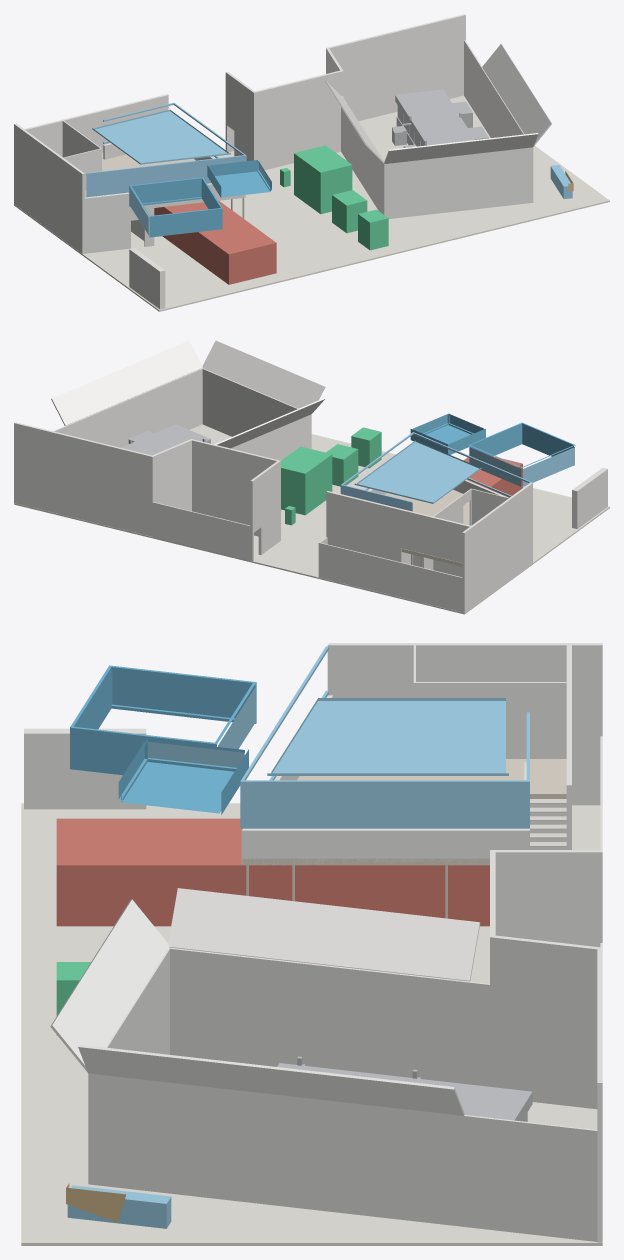
File: 270011_stand_groupeB_v2.glb
The picture shows the model from 3 angles, top to bottom: view 1: azimuth 30°, elevation 25°; view 2: azimuth 150°, elevation 25°; view 3: azimuth 270°, elevation 25°; orthographic projection. The views are drawn at different scales.
Visible parts, largest first — view 1: Hebeboden_002, Wandbau_001, Wandbau_015, Wandbau_009, Hebeboden_003, Wandbau_021, Expos_001, Cube_4_001, UCT40_machine, Cremer_003, Wandbau_016, Wandbau_014 (+18 smaller); view 2: Wandbau_001, Wandbau_021, Wandbau_014, Wandbau_005, Wandbau_009, Wandbau_016, Hebeboden_003, Cube_4_001, Wandbau_002, Wandbau_012, Wandbau_015, Wandbau_017 (+21 smaller); view 3: Wandbau_014, Hebeboden_002, Wandbau_013, Expos_001, Wandbau_018, Wandbau_010, Cube_4_001, Wandbau_021, Cube_4_006, Wandbau_016, Wandbau_011, Wandbau_022 (+21 smaller).
Boxes of the visible parts, x1,y1,x2,y2 form: Hebeboden_002: [82, 146, 609, 311]; Wandbau_001: [326, 14, 465, 120]; Wandbau_015: [384, 147, 531, 218]; Wandbau_009: [252, 70, 340, 169]; Hebeboden_003: [14, 95, 530, 254]; Wandbau_021: [14, 123, 82, 252]; Expos_001: [154, 200, 276, 284]; Cube_4_001: [92, 109, 230, 164]; UCT40_machine: [392, 89, 488, 147]; Cremer_003: [294, 145, 352, 214]; Wandbau_016: [482, 44, 551, 146]; Wandbau_014: [464, 40, 533, 202]; Wandbau_001: [14, 422, 154, 536]; Wandbau_021: [462, 483, 531, 611]; Wandbau_014: [53, 368, 202, 447]; Wandbau_005: [318, 537, 465, 612]; Wandbau_009: [192, 439, 280, 541]; Wandbau_016: [51, 340, 202, 425]; Hebeboden_003: [14, 424, 532, 614]; Cube_4_001: [354, 440, 481, 503]; Wandbau_002: [326, 491, 402, 562]; Wandbau_012: [401, 488, 508, 562]; Wandbau_015: [202, 368, 311, 448]; Wandbau_017: [202, 340, 325, 408]; Wandbau_014: [88, 1073, 597, 1241]; Hebeboden_002: [21, 803, 602, 1245]; Wandbau_013: [169, 947, 489, 1086]; Expos_001: [56, 818, 489, 926]; Wandbau_018: [168, 888, 480, 981]; Wandbau_010: [490, 935, 602, 1109]; Cube_4_001: [267, 698, 508, 775]; Wandbau_021: [333, 643, 602, 805]; Cube_4_006: [240, 784, 529, 825]; Wandbau_016: [78, 1044, 464, 1115]; Wandbau_011: [490, 850, 602, 947]; Wandbau_022: [241, 643, 524, 865].
Size of the model in its own units: 34.01 by 5.88 by 19.
